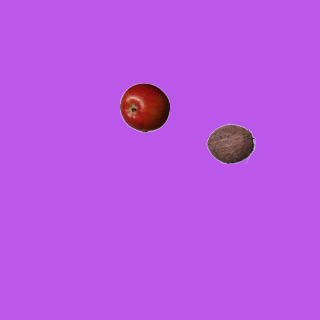Apple Braeburn: (119, 82, 169, 132)
Cocos: (205, 118, 255, 168)
